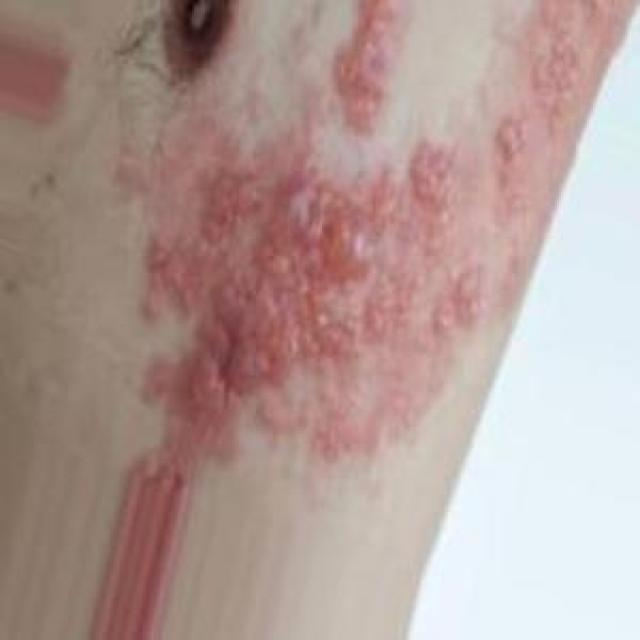Shingles: (153, 8, 582, 470)
